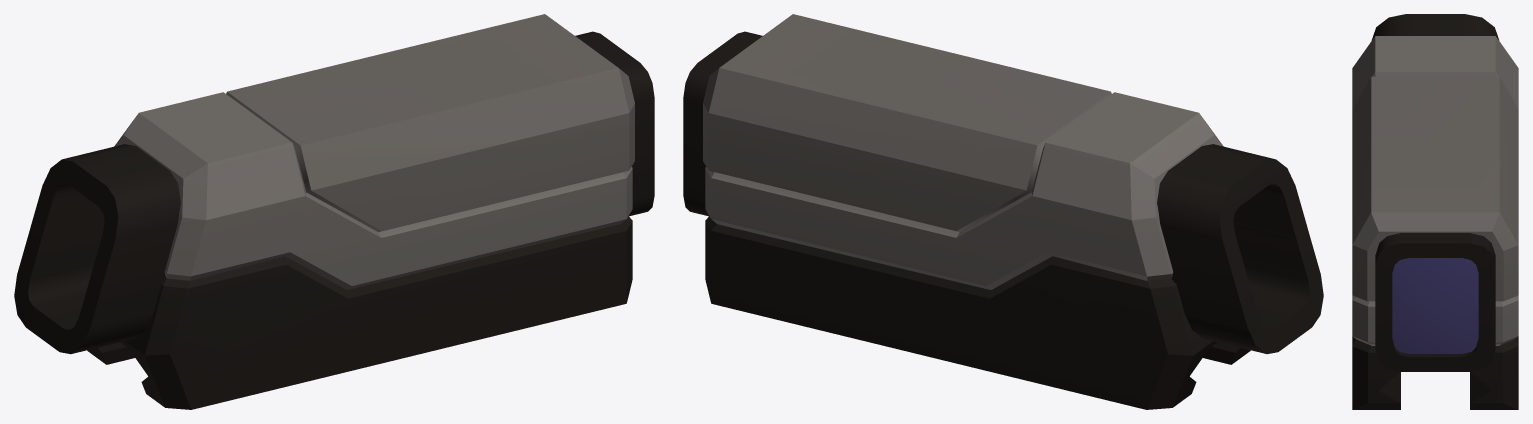
File: AR9_Sight.fbx
The picture shows the model from 3 angles, left to right: view 1: azimuth 30°, elevation 25°; view 2: azimuth 150°, elevation 25°; view 3: azimuth 270°, elevation 25°; orthographic projection. The views are drawn at different scales.
Parts seen in each view (by area): view 1: AR9_Sight; view 2: AR9_Sight; view 3: AR9_Sight.
Part boxes in pixels (<box>): AR9_Sight: <box>14,14,654,409</box>; AR9_Sight: <box>683,14,1323,409</box>; AR9_Sight: <box>1352,14,1518,409</box>.
Bounding box in the file's own units: 13.41 × 5.07 × 3.8.
